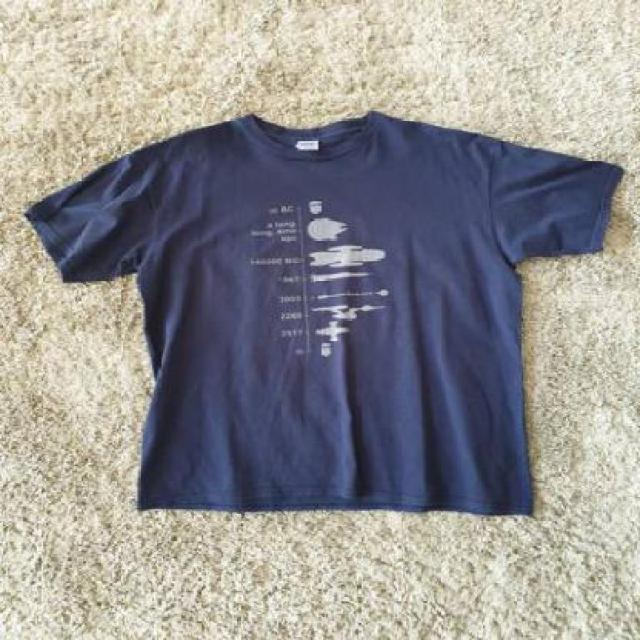shirt: (22, 107, 630, 525)
